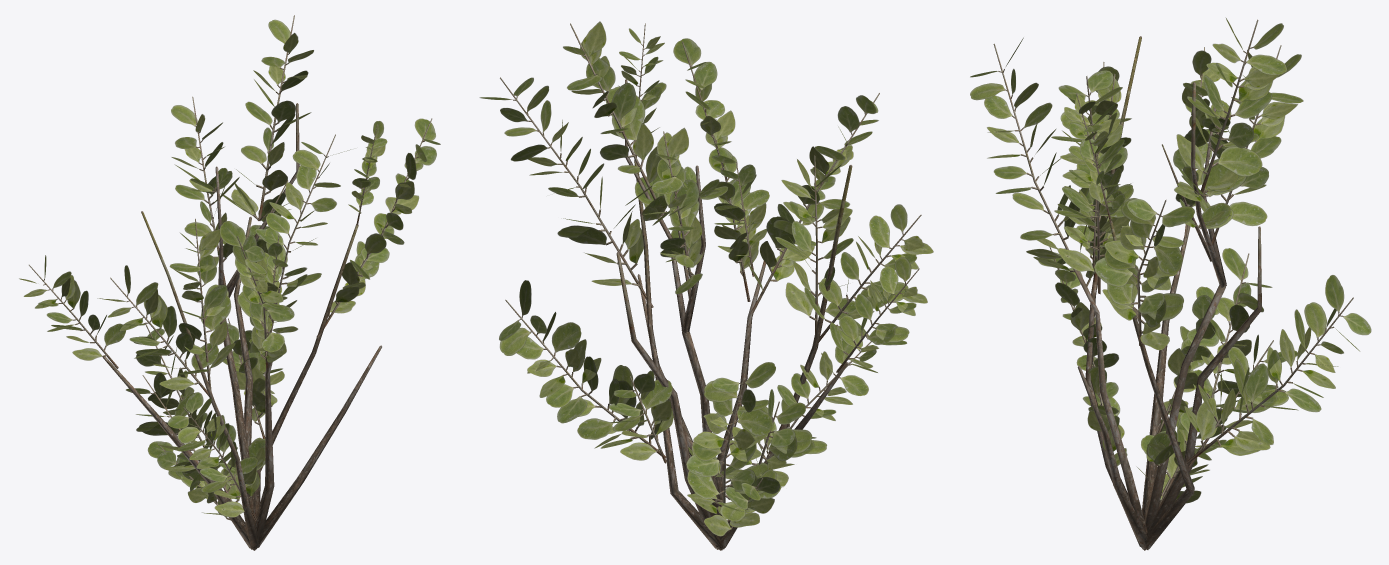
The model's file is bush_01.glb.
3 renders of one model, left to right at view 1: azimuth 30°, elevation 25°; view 2: azimuth 150°, elevation 25°; view 3: azimuth 270°, elevation 25°, orthographic. The views are drawn at different scales.
Parts seen in each view (by area): view 1: searsia_lucida_f_LOD2; view 2: searsia_lucida_f_LOD2; view 3: searsia_lucida_f_LOD2.
Boxes of the visible parts, bbox=[...] form: searsia_lucida_f_LOD2: bbox=[19, 15, 440, 550]; searsia_lucida_f_LOD2: bbox=[479, 21, 933, 550]; searsia_lucida_f_LOD2: bbox=[970, 17, 1371, 550].
Size of the model in its own units: 0.9562 by 1.07 by 0.6806.
Materials: 2 (2 with a texture image).
